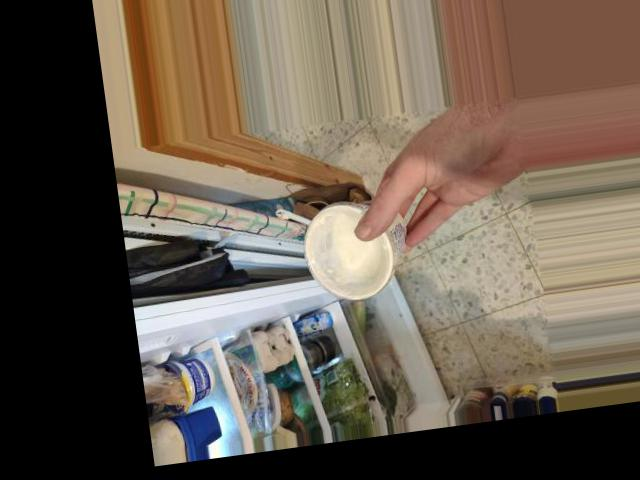cotage: (285, 190, 419, 302)
